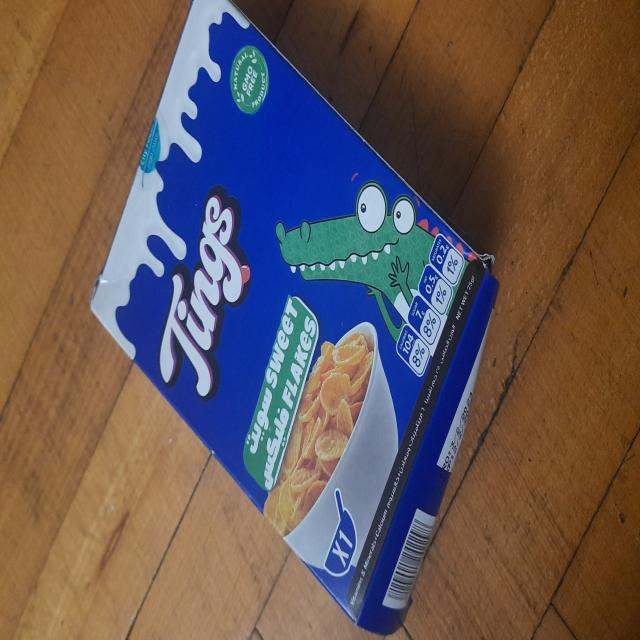cardboard: (64, 0, 511, 640)
